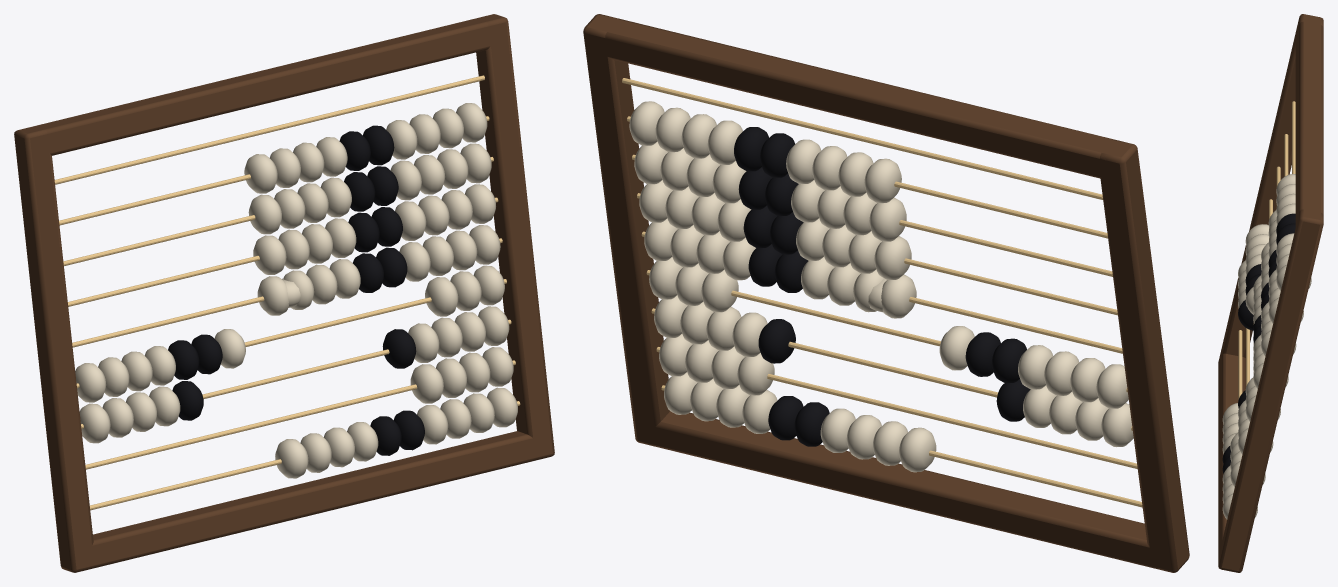
File: abacus.glb
3 views of the same model, side by side, from view 1: azimuth 30°, elevation 25°; view 2: azimuth 150°, elevation 25°; view 3: azimuth 270°, elevation 25° (orthographic). The views are drawn at different scales.
Parts seen in each view (by area): view 1: left, top, bot, right, wire.008, wire.001, wire.004, wire.005, wire.006, wire, wire.007, wire.003 (+75 smaller); view 2: top, bot, left, right, wire.008, wire.001, wire, wire.006, wire.007, wire.005, wire.004, wire.002 (+74 smaller); view 3: right, top, left, bot, wire, bead.018, wire.007, bead.024, bead.025, wire.001, bead.064, bead.067 (+21 smaller).
Part boxes in pixels (box(x1,y1,x2,y2)): left: box(14, 126, 93, 572); top: box(36, 18, 495, 155); bot: box(87, 431, 540, 569); right: box(476, 14, 554, 460); wire.008: box(54, 75, 484, 184); wire.001: box(85, 360, 515, 469); wire.004: box(72, 238, 502, 347); wire.005: box(67, 197, 498, 306); wire.006: box(63, 157, 493, 265); wire: box(90, 401, 520, 510); wire.007: box(59, 116, 489, 225); wire.003: box(76, 279, 506, 388); top: box(599, 19, 1113, 178); bot: box(649, 411, 1158, 569); left: box(1100, 139, 1189, 572); right: box(583, 14, 669, 446); wire.008: box(622, 78, 1102, 199); wire.001: box(656, 347, 1137, 468); wire: box(661, 385, 1142, 507); wire.006: box(632, 154, 1112, 276); wire.007: box(627, 116, 1107, 238); wire.005: box(637, 193, 1117, 315); wire.004: box(641, 231, 1122, 353); wire.002: box(651, 308, 1132, 430); right: box(1218, 209, 1323, 572); top: box(1295, 21, 1323, 228); left: box(1218, 14, 1323, 366); bot: box(1218, 353, 1245, 558); wire: box(1238, 330, 1242, 399); bead.018: box(1238, 300, 1253, 330); wire.007: box(1292, 101, 1295, 173); bead.024: box(1245, 224, 1268, 245); bead.025: box(1245, 234, 1268, 255); wire.001: box(1246, 328, 1249, 386); bead.064: box(1276, 174, 1295, 195); bead.067: box(1276, 203, 1295, 225).
Bounding box in the file's own units: 1.37 × 1.11 × 0.2972.
